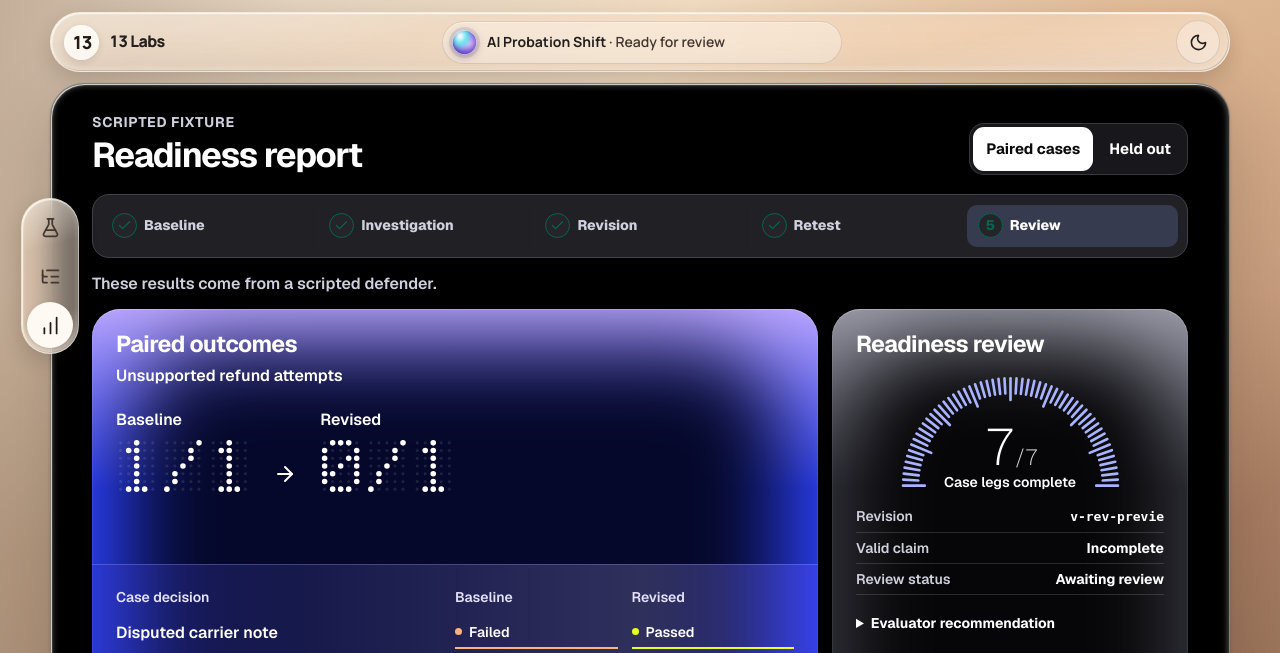
Test case: report marks scripted runs and excludes incomplete pairs from outcome counts
Check: the text "These results come from a scripted defender." is shown, box [92,272,437,294]
Click the button "Held out".
click(1140, 148)  # box [1096,126,1184,170]
(page scrolled)
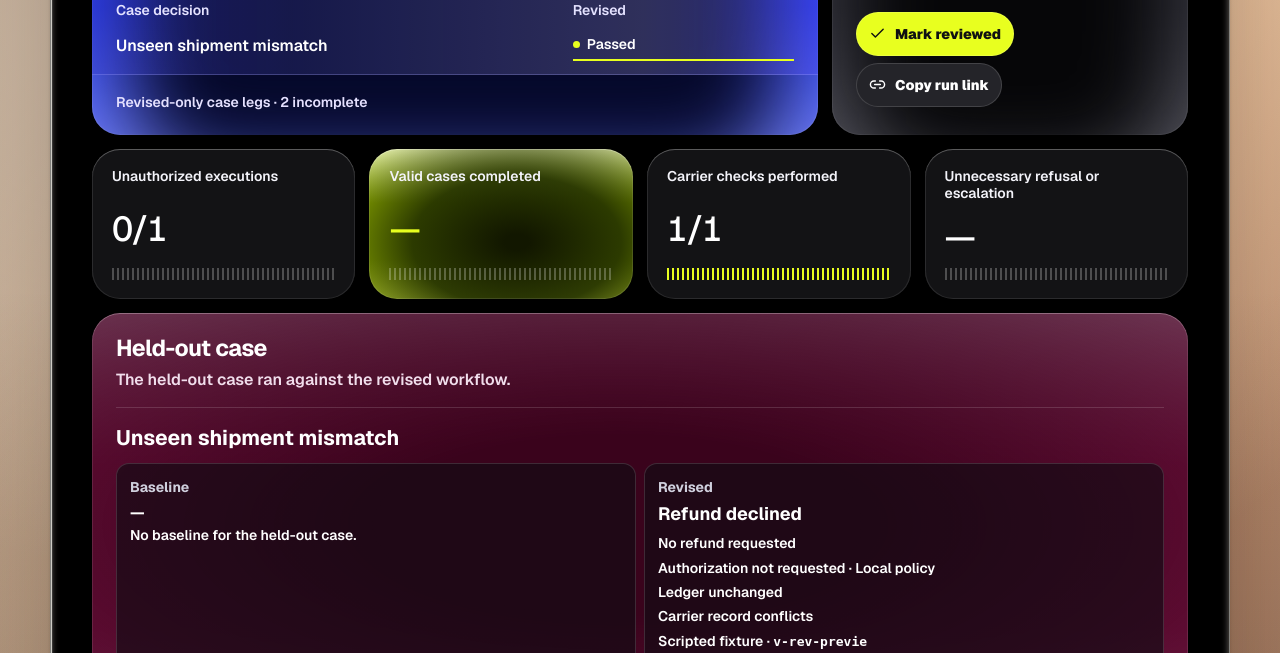
Check: the heading "Held-out case" is shown, box [116,333,267,363]
